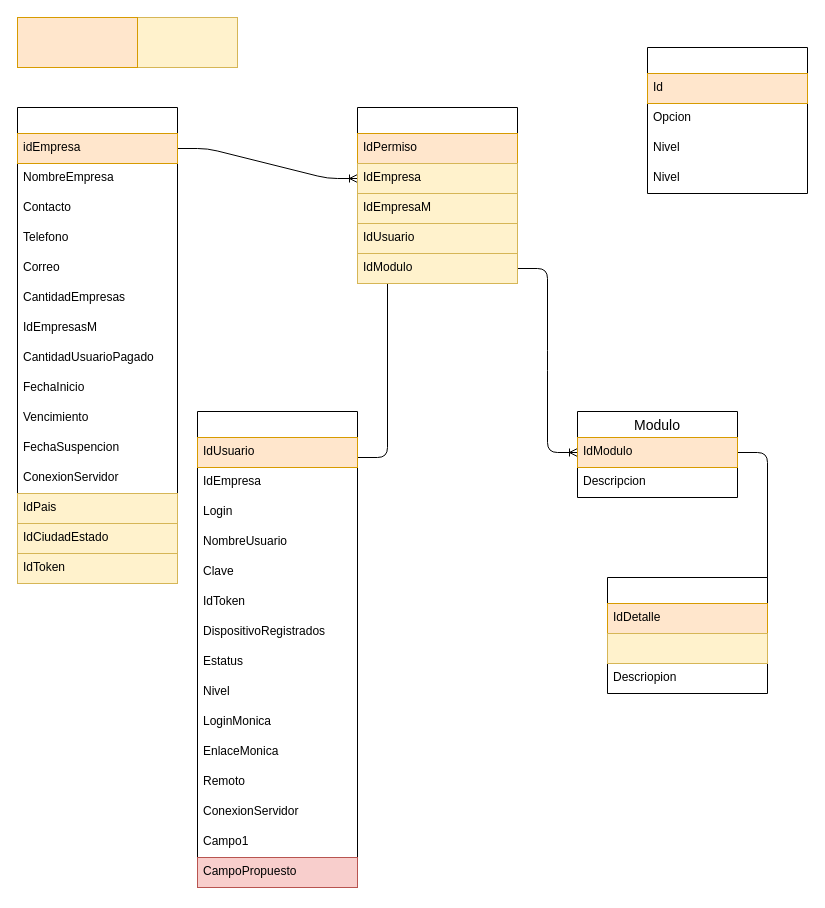
The diagram is 825 pixels wide and 908 high, and some of its shapes have lost their labels. The shapes that lost their labels are listed below. From the top down, each one's box as (x1, y1, x2, y2) in pixels, then its label:
(16, 16, 138, 68): IDENTIFICADORES
(136, 16, 238, 68): RELACIONES
(646, 46, 808, 194): OpcionesMonica
(356, 106, 518, 284): PermisosUsuarios
(16, 106, 178, 584): EmpresasRegistradas
(196, 410, 358, 888): Usuarios
(606, 576, 768, 694): DetalleModulo
(606, 632, 768, 664): IdModullo
